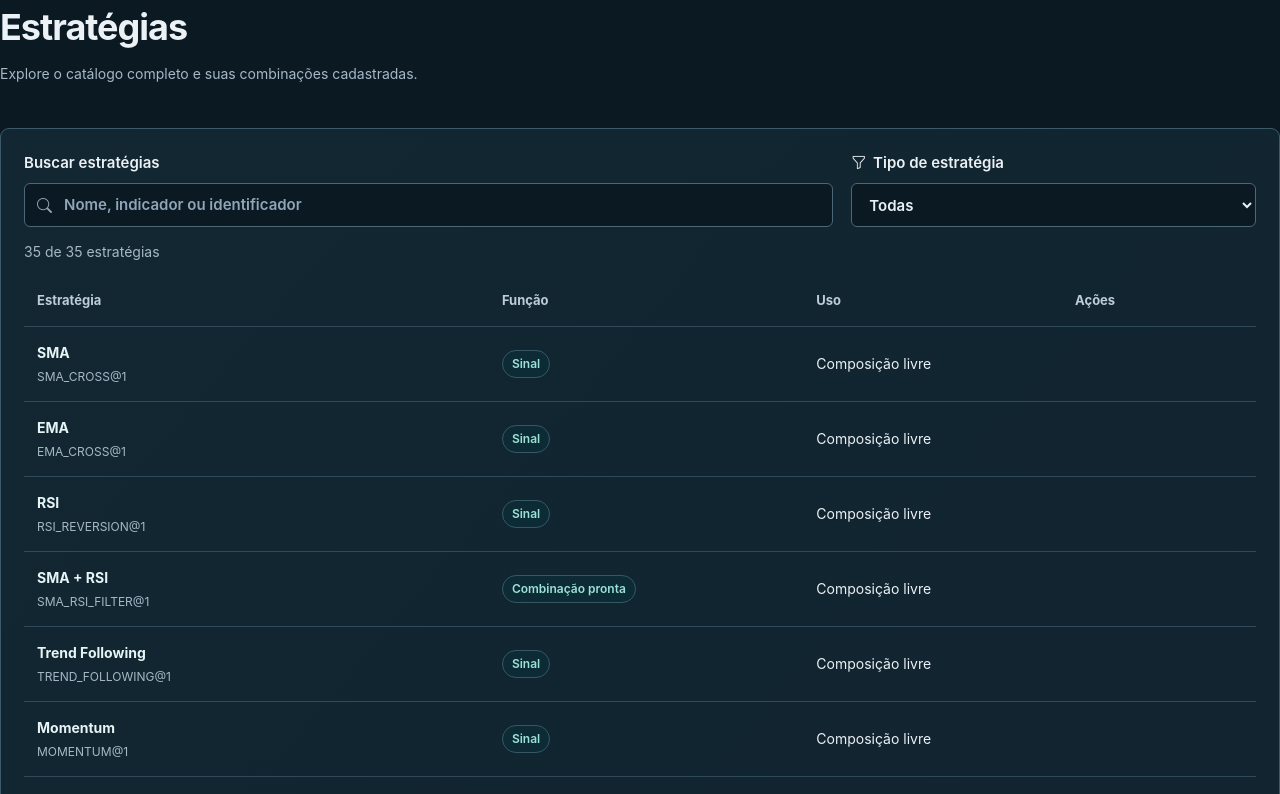
Scenario: lista o catálogo completo e cadastros, com busca sem acentos e filtros
Expected: the text "35 de 35 estratégias" is shown, left=24, top=243, right=160, bottom=260
Expected: the column heading "Ações" is shown, left=1062, top=276, right=1256, bottom=326
In the search field labelled "Buscar estratégias": [429, 205] box left=24, top=183, right=833, bottom=227, type "recuperacao bollinger"
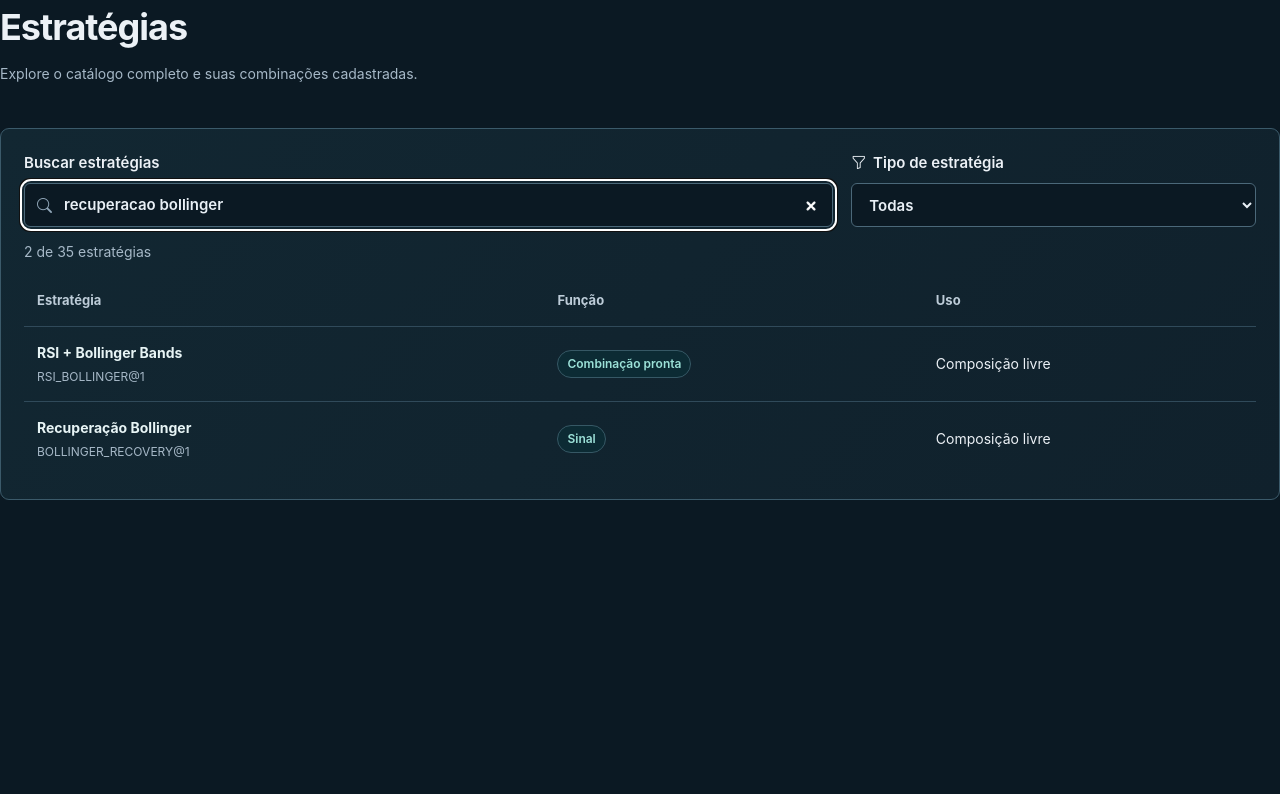
Expected: the link "Recuperação Bollinger" is shown, left=37, top=419, right=191, bottom=436
Now the text "2 de 35 estratégias" is shown, box left=24, top=243, right=151, bottom=260
Clear the search field labelled "Buscar estratégias": [429, 205] box left=24, top=183, right=833, bottom=227
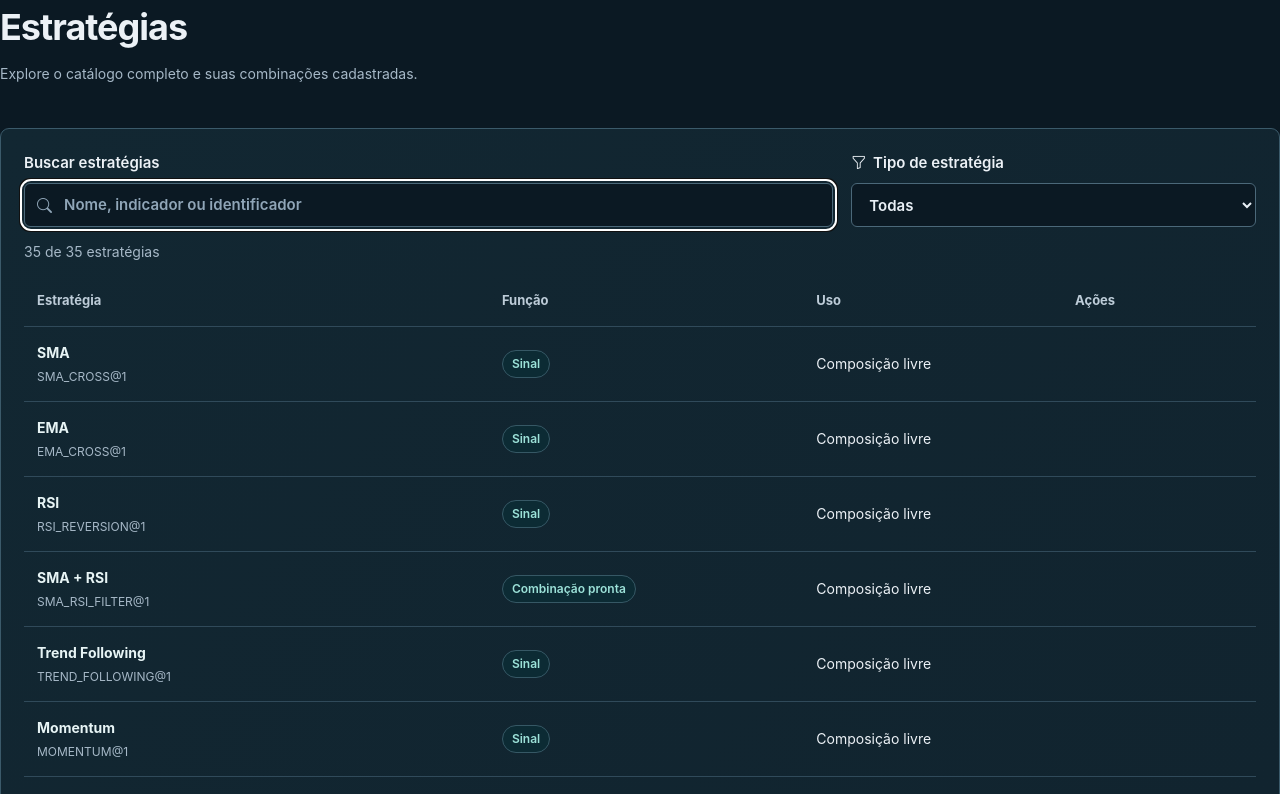
Select "Combinações cadastradas" in the dropdown labelled "Tipo de estratégia": [1054, 205] box left=851, top=183, right=1256, bottom=227
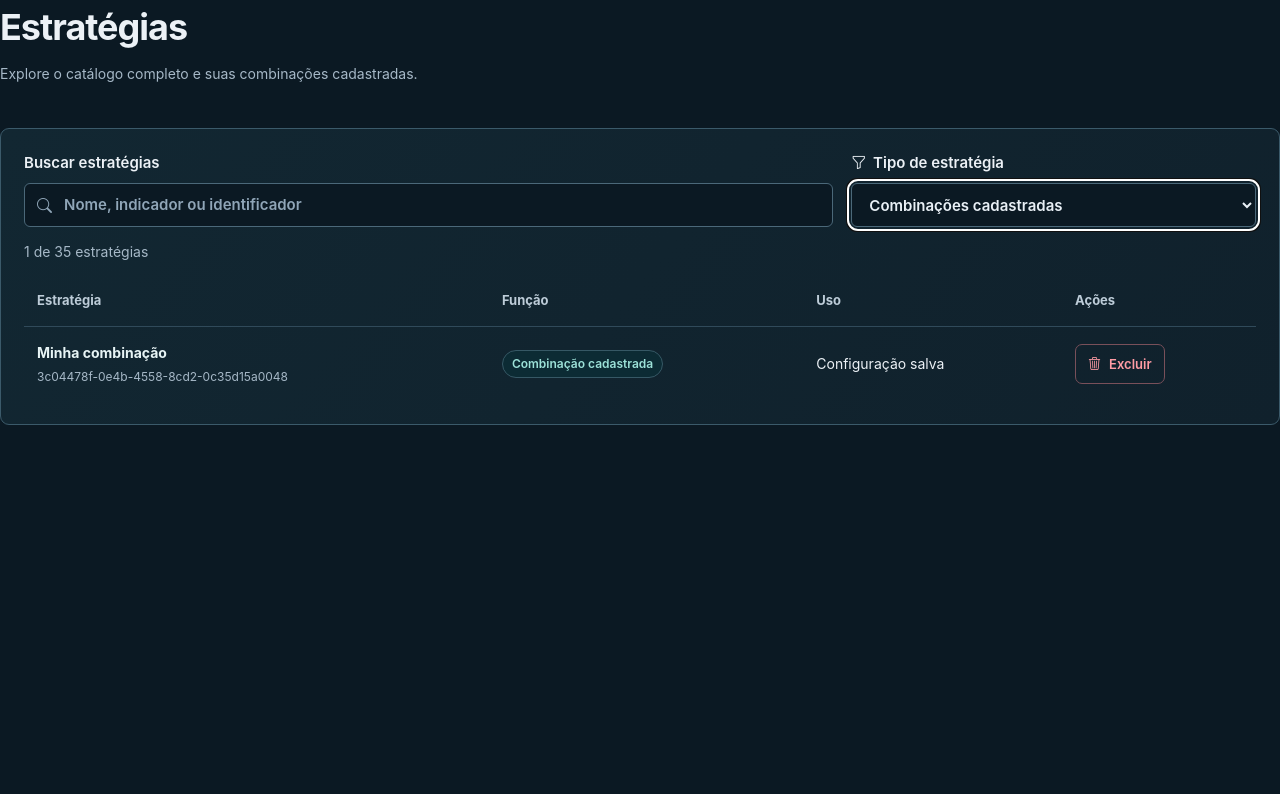
Now the link "Minha combinação" is shown, box left=37, top=344, right=167, bottom=361
Now the column heading "Ações" is shown, box left=1062, top=276, right=1256, bottom=326
In the search field labelled "Buscar estratégias": [429, 205] box left=24, top=183, right=833, bottom=227, type "inexistente"
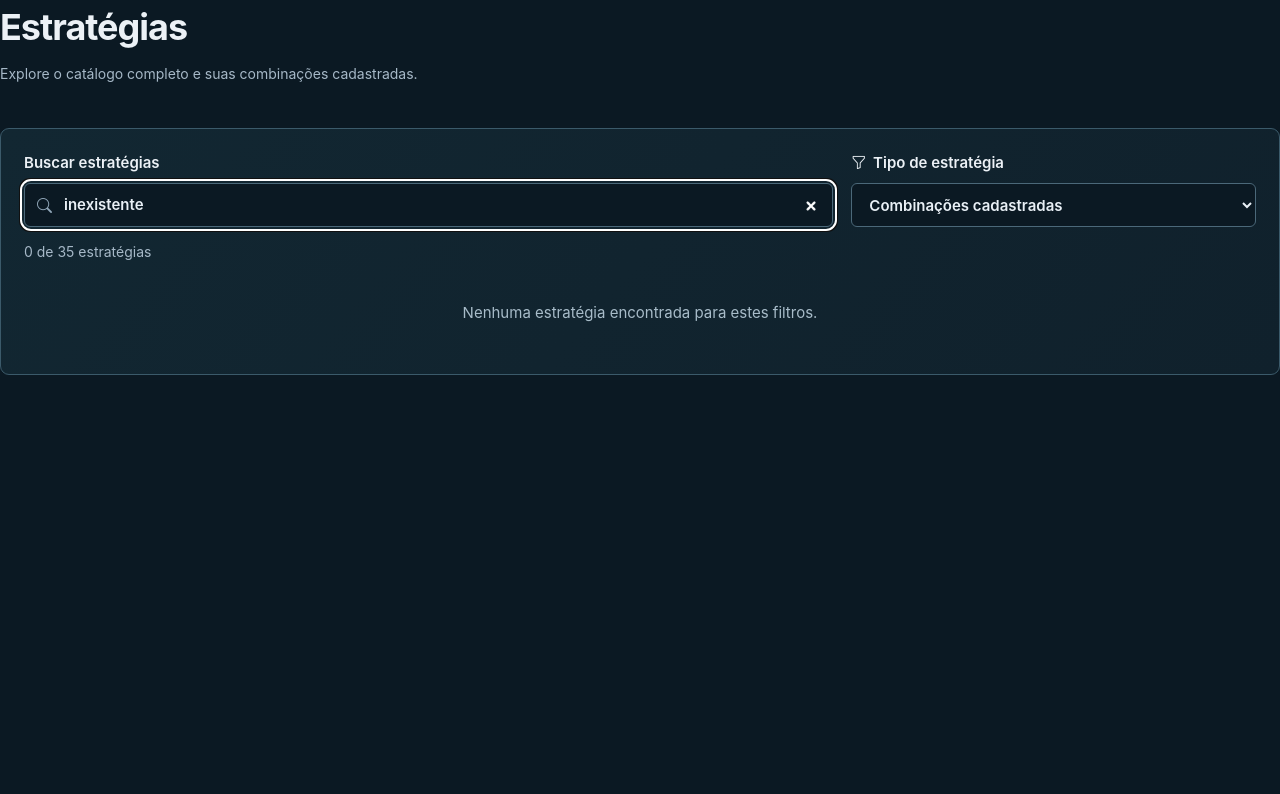
Now the text "Nenhuma estratégia encontrada para estes filtros." is shown, box left=463, top=303, right=817, bottom=322
